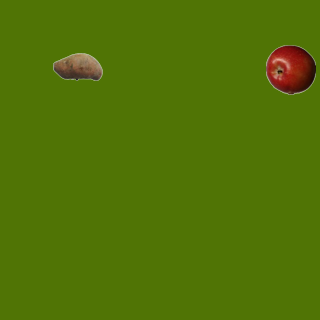Apple Braeburn: (265, 44, 315, 94)
Potato Sweet: (52, 41, 102, 91)
